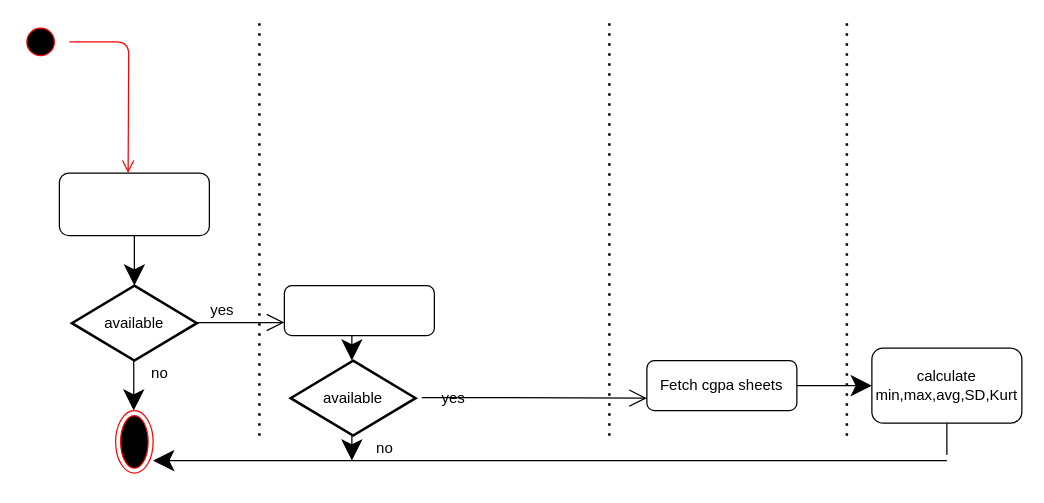
This 1044x503 diagram has some shape labels left out. The centre of each missing label's shape, as x and y in pixels:
"Fetch data sheets" belongs at [133,204].
"Fetch keysheets" belongs at [358,310].
